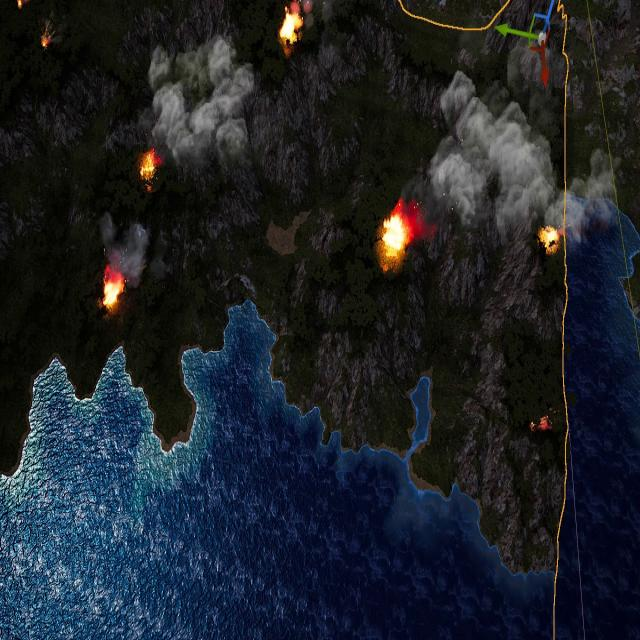fire: (381, 208, 409, 261), (101, 269, 124, 311), (280, 8, 302, 42), (140, 150, 159, 182), (539, 226, 560, 249), (41, 31, 52, 49), (16, 0, 24, 9)
smoke: (409, 55, 570, 236), (144, 34, 257, 171), (565, 146, 616, 252), (100, 212, 172, 282)
